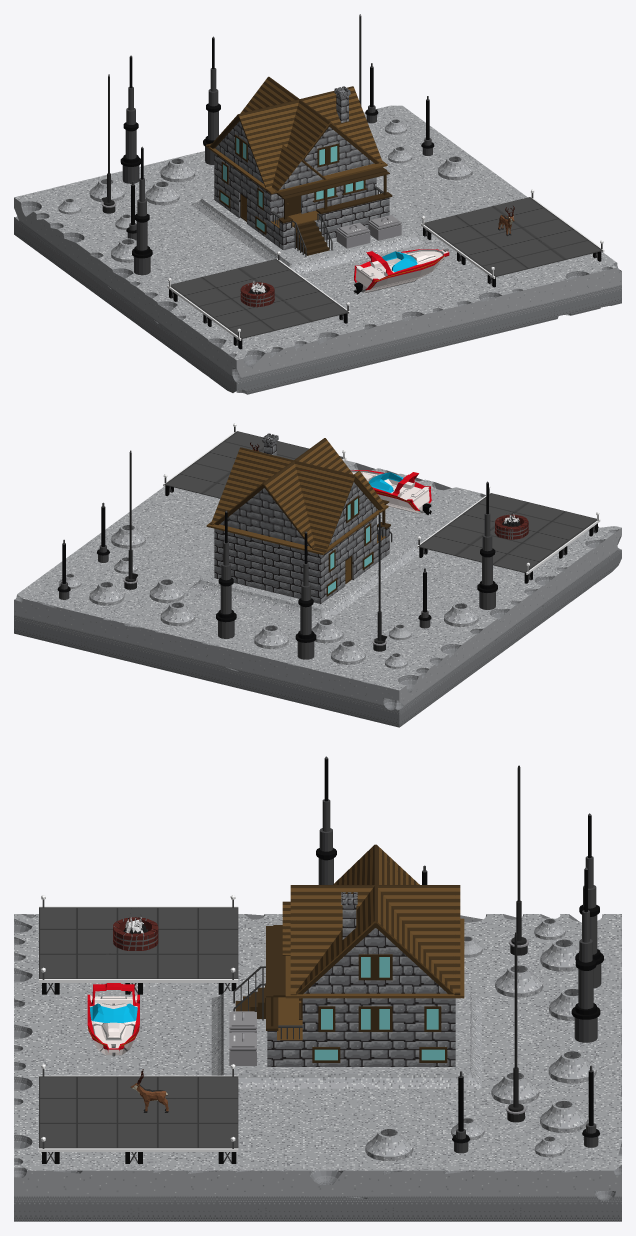
3 renders of one model, top to bottom at view 1: azimuth 30°, elevation 25°; view 2: azimuth 150°, elevation 25°; view 3: azimuth 270°, elevation 25°, orthographic. The views are drawn at different scales.
Visible parts, largest first — view 1: Cube.027, Cube.586, Cube.026, Cube.025, Cube.028, VEHICLES_BOAT, Cylinder.020, Cylinder.021, Cylinder.017, OBJRANDOM_CAMPFIRE, Cube.029, Cube.030 (+4 smaller); view 2: Cube.027, Cube.586, Cube.025, Cube.028, Cube.026, VEHICLES_BOAT, Cylinder.020, Cylinder.021, Cylinder.017, OBJRANDOM_CAMPFIRE, Cylinder.031, Cylinder.028 (+8 smaller); view 3: Cube.027, Cube.586, Cube.026, Cube.025, Cube.028, VEHICLES_BOAT, Cylinder.017, OBJRANDOM_CAMPFIRE, Cylinder.020, Cylinder.021, Cylinder.033, Cylinder.031 (+10 smaller).
Boxes of the visible parts, box(x1,y1,x2,y2) form: Cube.027: box(14, 105, 621, 394); Cube.586: box(205, 76, 392, 256); Cube.026: box(421, 189, 604, 287); Cube.025: box(167, 251, 350, 349); Cube.028: box(191, 195, 424, 274); VEHICLES_BOAT: box(353, 248, 449, 294); Cylinder.020: box(120, 55, 140, 183); Cylinder.021: box(132, 146, 152, 275); Cylinder.017: box(203, 36, 220, 164); OBJRANDOM_CAMPFIRE: box(240, 281, 274, 307); Cube.029: box(336, 222, 370, 248); Cube.030: box(368, 215, 401, 240); Cube.027: box(14, 460, 621, 727); Cube.586: box(206, 433, 392, 603); Cube.025: box(417, 485, 600, 583); Cube.028: box(190, 538, 419, 620); Cube.026: box(163, 423, 346, 498); VEHICLES_BOAT: box(350, 470, 431, 515); Cylinder.020: box(295, 531, 316, 659); Cylinder.021: box(477, 481, 497, 609); Cylinder.017: box(216, 510, 236, 638); OBJRANDOM_CAMPFIRE: box(494, 512, 528, 539); Cylinder.031: box(89, 581, 124, 605); Cylinder.028: box(331, 640, 365, 664); Cube.027: box(14, 914, 621, 1221); Cube.586: box(233, 844, 464, 1066); Cube.026: box(39, 1064, 238, 1163); Cube.025: box(39, 895, 238, 994); Cube.028: box(211, 991, 481, 1088); VEHICLES_BOAT: box(87, 983, 139, 1056); Cylinder.017: box(571, 867, 600, 1042); OBJRANDOM_CAMPFIRE: box(113, 915, 158, 950); Cylinder.020: box(575, 813, 603, 988); Cylinder.021: box(316, 756, 336, 884); Cylinder.033: box(365, 1128, 413, 1160); Cylinder.031: box(540, 1100, 587, 1132).
Size of the model in its own units: 4000 by 1799 by 4000.
Materials: 35 (5 with a texture image).
